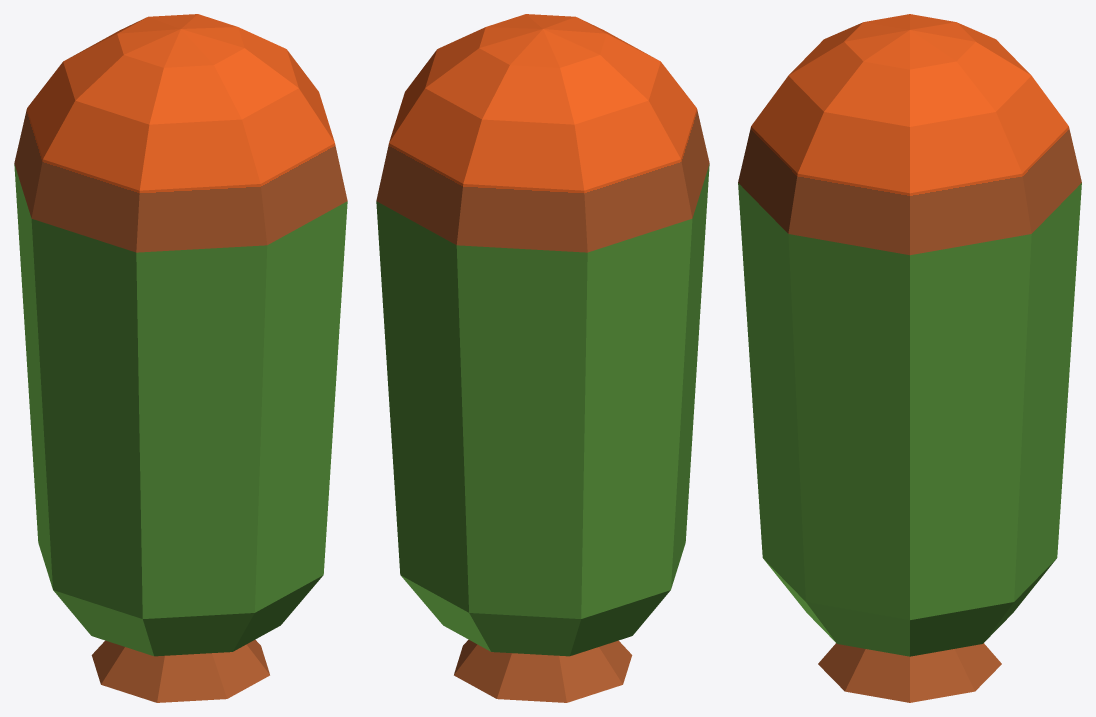
The model's file is rocket.glb.
The picture shows the model from 3 angles, left to right: view 1: azimuth 30°, elevation 25°; view 2: azimuth 150°, elevation 25°; view 3: azimuth 270°, elevation 25°; orthographic projection.
Parts seen in each view (by area): view 1: Cylinder; view 2: Cylinder; view 3: Cylinder.
Part boxes in pixels (<box>): Cylinder: <box>14,14,347,702</box>; Cylinder: <box>376,14,709,702</box>; Cylinder: <box>738,14,1081,702</box>.
Size of the model in its own units: 0.4337 by 0.8821 by 0.4337.
1 material, 1 textured.
